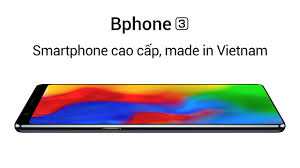bphone: (9, 81, 288, 141)
